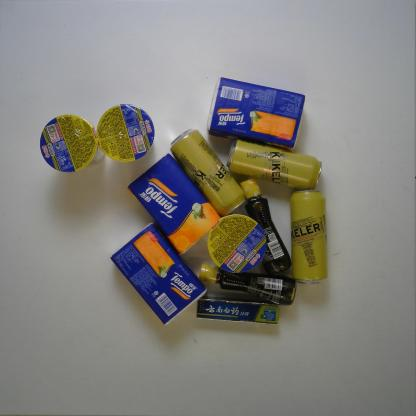Alcohol: (169, 128, 246, 219), (228, 137, 324, 192), (286, 189, 332, 286)
Instant Noodles: (208, 212, 268, 274), (98, 101, 154, 166), (39, 114, 99, 173)
Personal Hygiene: (194, 293, 280, 326)
Seasoner: (239, 180, 291, 274), (200, 261, 298, 306)
Tissue: (127, 152, 222, 258), (111, 222, 206, 324), (206, 77, 308, 150)
